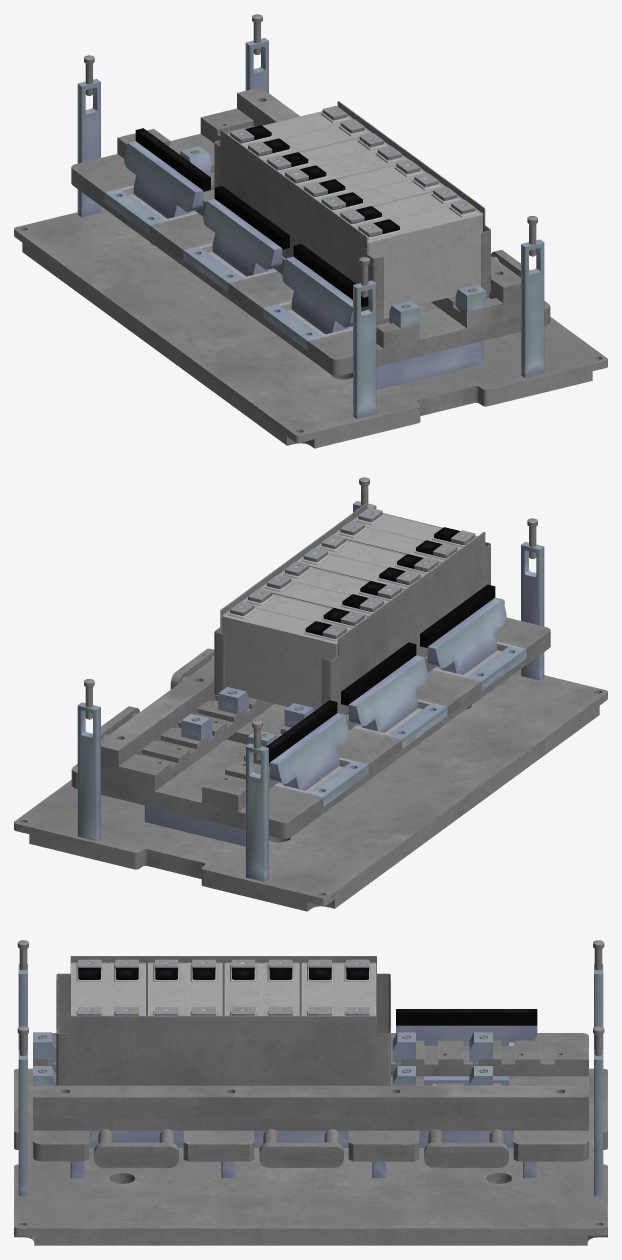
Rendered from Product.glb.
3 views of the same model, one above another, from view 1: azimuth 30°, elevation 25°; view 2: azimuth 150°, elevation 25°; view 3: azimuth 270°, elevation 25° (orthographic). The views are drawn at different scales.
Parts seen in each view (by area): view 1: Product; view 2: Product; view 3: Product.
Boxes of the visible parts, x1=… form: Product: x1=14, y1=14, x2=607, y2=448; Product: x1=14, y1=477, x2=607, y2=911; Product: x1=14, y1=940, x2=607, y2=1245.
Size of the model in its own units: 0.32 by 0.1694 by 0.504.
Materials: 1 (1 with a texture image).
